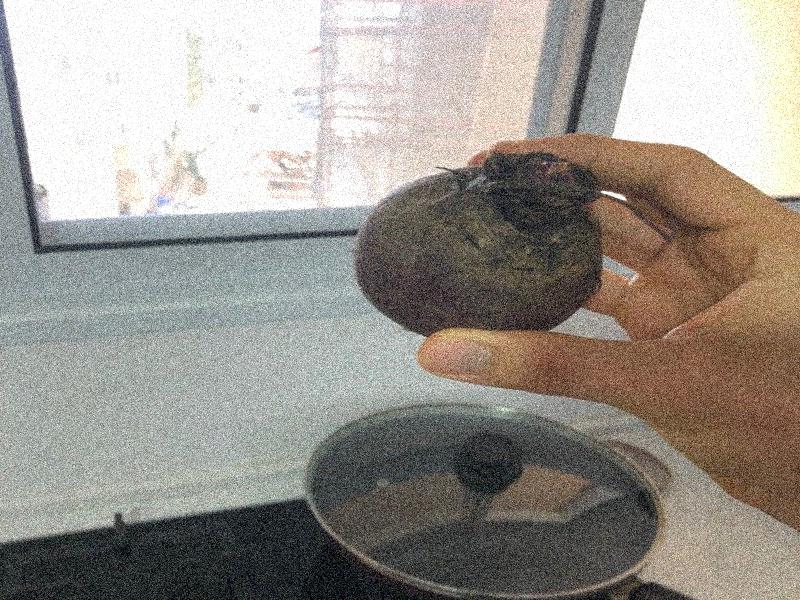Beet: (353, 151, 674, 338)
